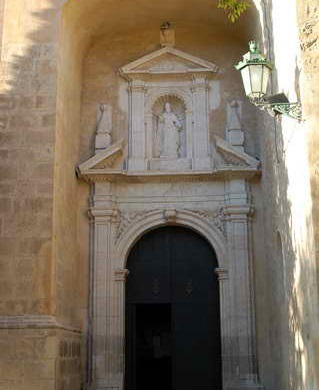arco-medio-punto: (119, 215, 224, 286)
fronton: (120, 47, 218, 77)
fronton-partido: (74, 132, 264, 180)
